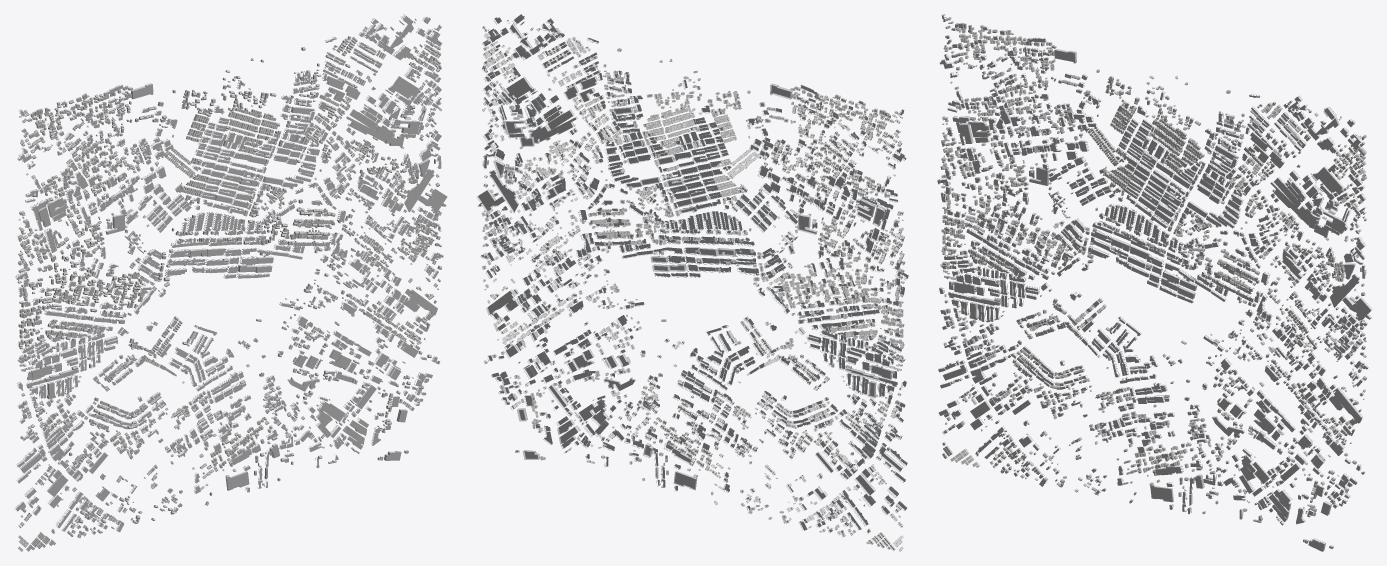
File: buildings_3_1.obj
The picture shows the model from 3 angles, left to right: view 1: azimuth 30°, elevation 25°; view 2: azimuth 150°, elevation 25°; view 3: azimuth 330°, elevation 25°; orthographic projection.
Bounding box in the file's own units: 2050 × 2050 × 28.25.
Materials: 5 (5 with a texture image).
